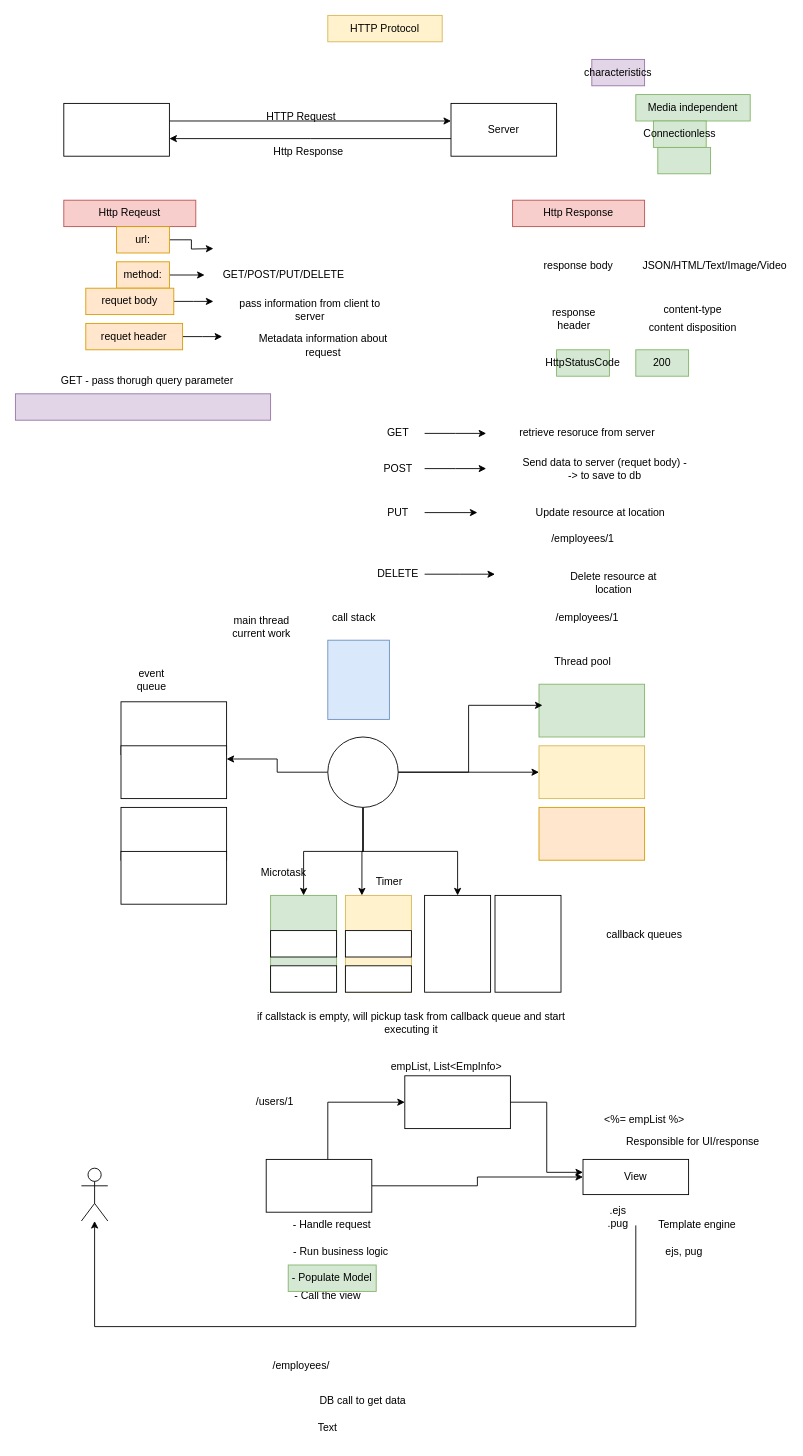
The diagram is 803 pixels wide and 1456 high, and some of its shapes have lost their labels. Each missing label, with the centre of its shape:
Actor: the point at 94,1194
client: the point at 116,129
Controller: the point at 318,1185
Event loop: the point at 362,771
Model: the point at 457,1102
POST - pass through request body: the point at 143,406
Stateless: the point at 684,160
